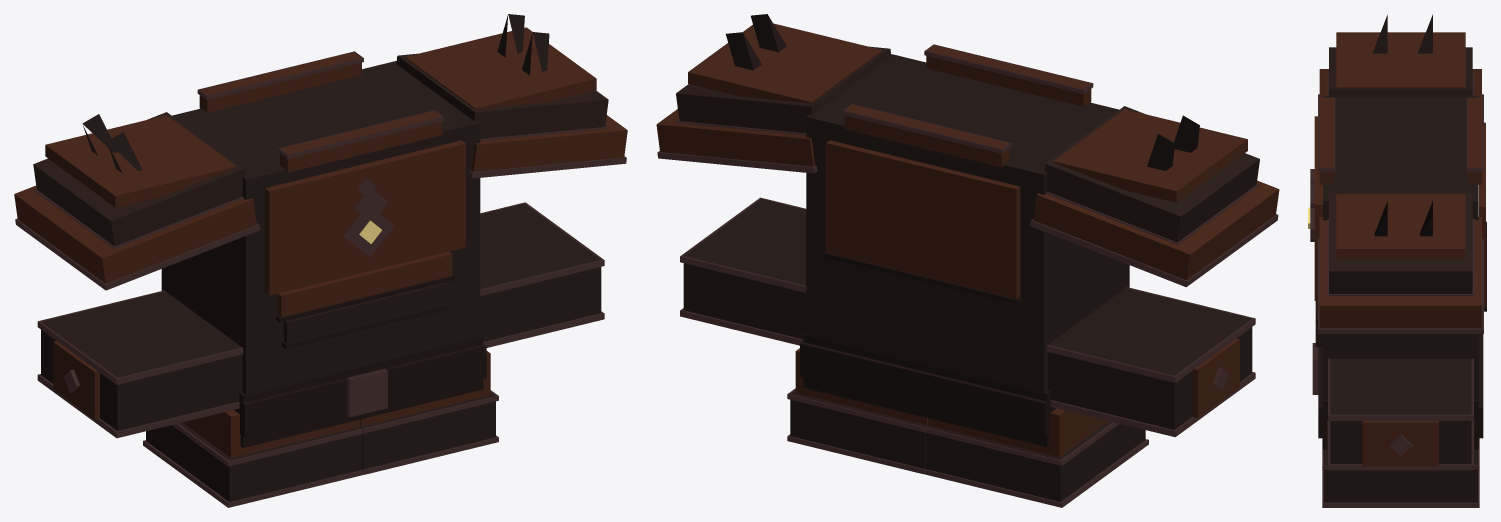
3 views of the same model, side by side, from view 1: azimuth 30°, elevation 25°; view 2: azimuth 150°, elevation 25°; view 3: azimuth 270°, elevation 25° (orthographic). The views are drawn at different scales.
Visible parts, largest first — view 1: armor-inferno; view 2: armor-inferno; view 3: armor-inferno.
Part boxes in pixels (x1,y1,x2,y2): armor-inferno: [14, 14, 627, 507]; armor-inferno: [656, 14, 1279, 507]; armor-inferno: [1308, 14, 1486, 507].
Bounding box in the file's own units: 1.23 × 0.8241 × 0.3947.
